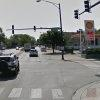Crosswalk: (1, 80, 100, 100)
